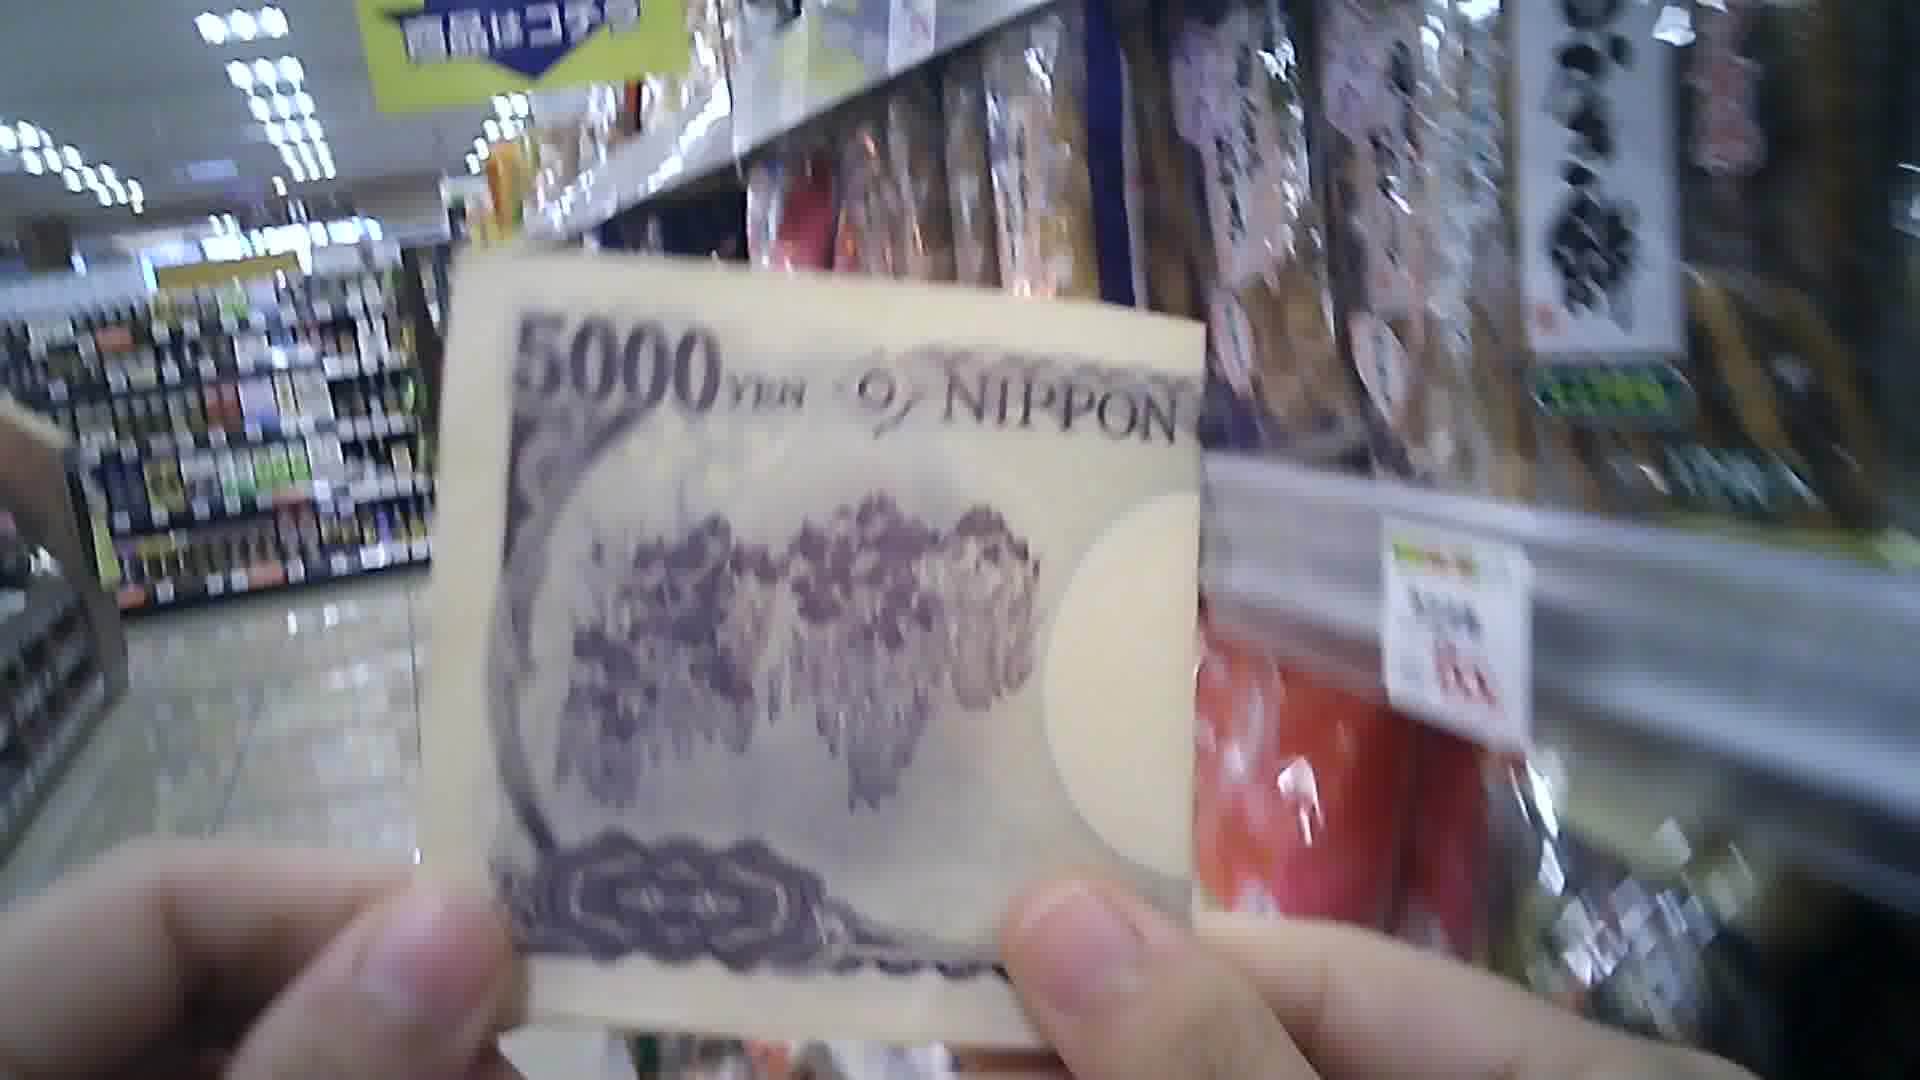5,000 Yen: (430, 224, 1237, 1079)
